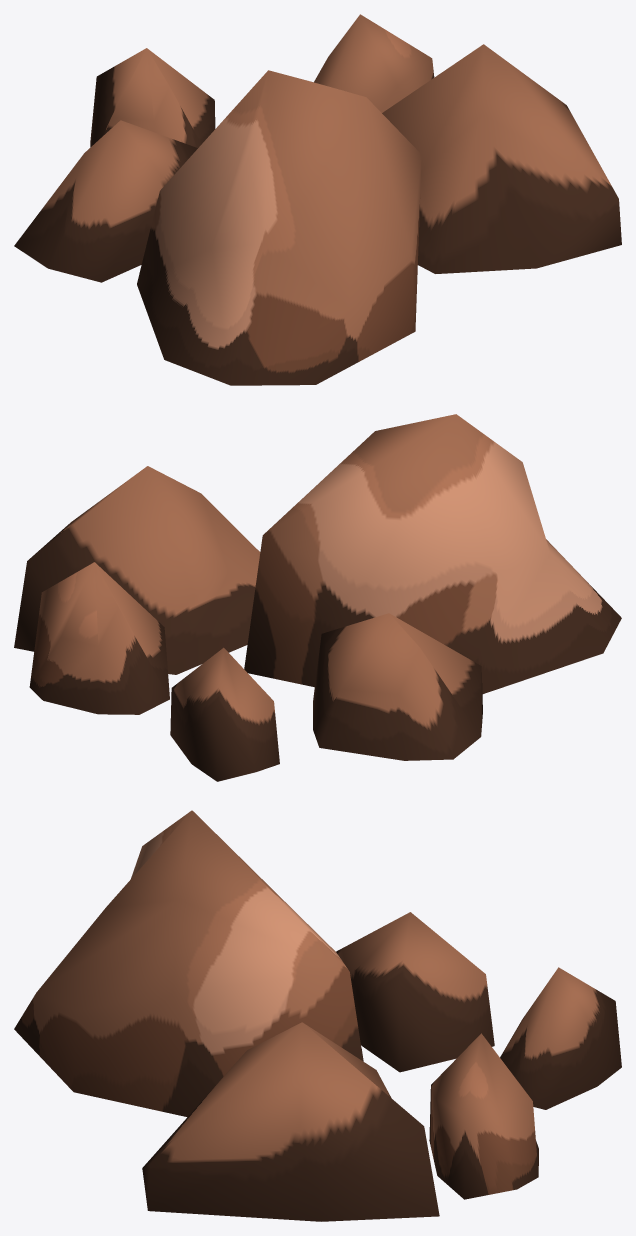
The model's file is Rock 3x 3 8_preview_3DS_simplified.glb.
3 renders of one model, top to bottom at view 1: azimuth 30°, elevation 25°; view 2: azimuth 150°, elevation 25°; view 3: azimuth 270°, elevation 25°, orthographic. The views are drawn at different scales.
Visible parts, largest first — view 1: Marine Park Empire model; view 2: Marine Park Empire model; view 3: Marine Park Empire model.
Boxes of the visible parts, left/top/right/bottom form: Marine Park Empire model: left=14, top=14, right=621, bottom=385; Marine Park Empire model: left=14, top=414, right=621, bottom=781; Marine Park Empire model: left=14, top=810, right=621, bottom=1221.
Size of the model in its own units: 87.94 by 41.64 by 95.91.
Materials: 1 (1 with a texture image).
